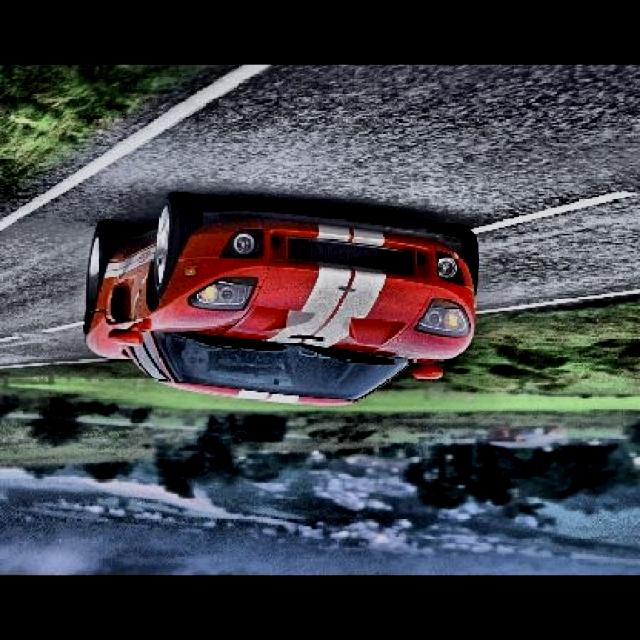red: (85, 206, 482, 408)
